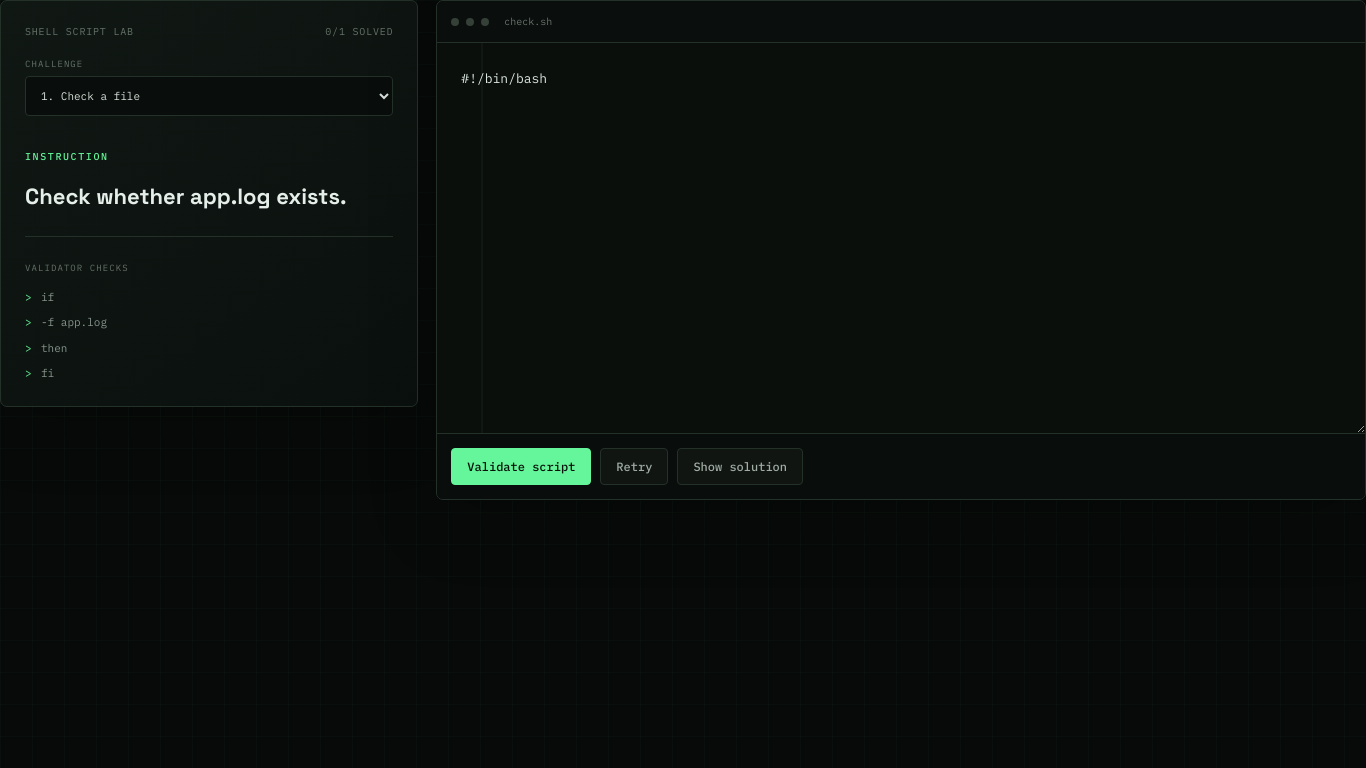
Test: FilePractice › opens a correction modal with a side-by-side comparison for an invalid answer
The image size is (1366, 768).
Replace the text in the text box named "Shell script answer" with "if [ -f app.log ]": (901, 238) x1=437 y1=43 x2=1365 y2=433
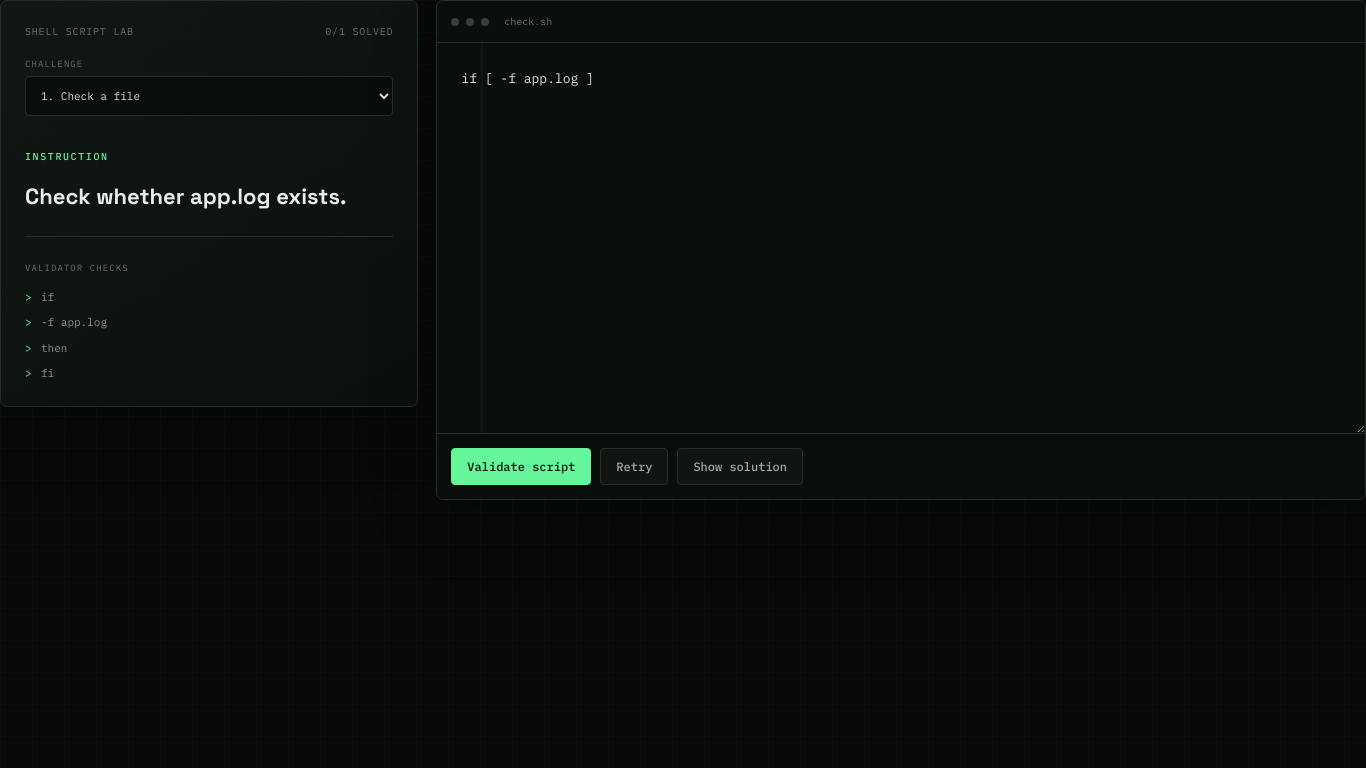
Click the button "Validate script": (521, 466) x1=451 y1=448 x2=591 y2=485
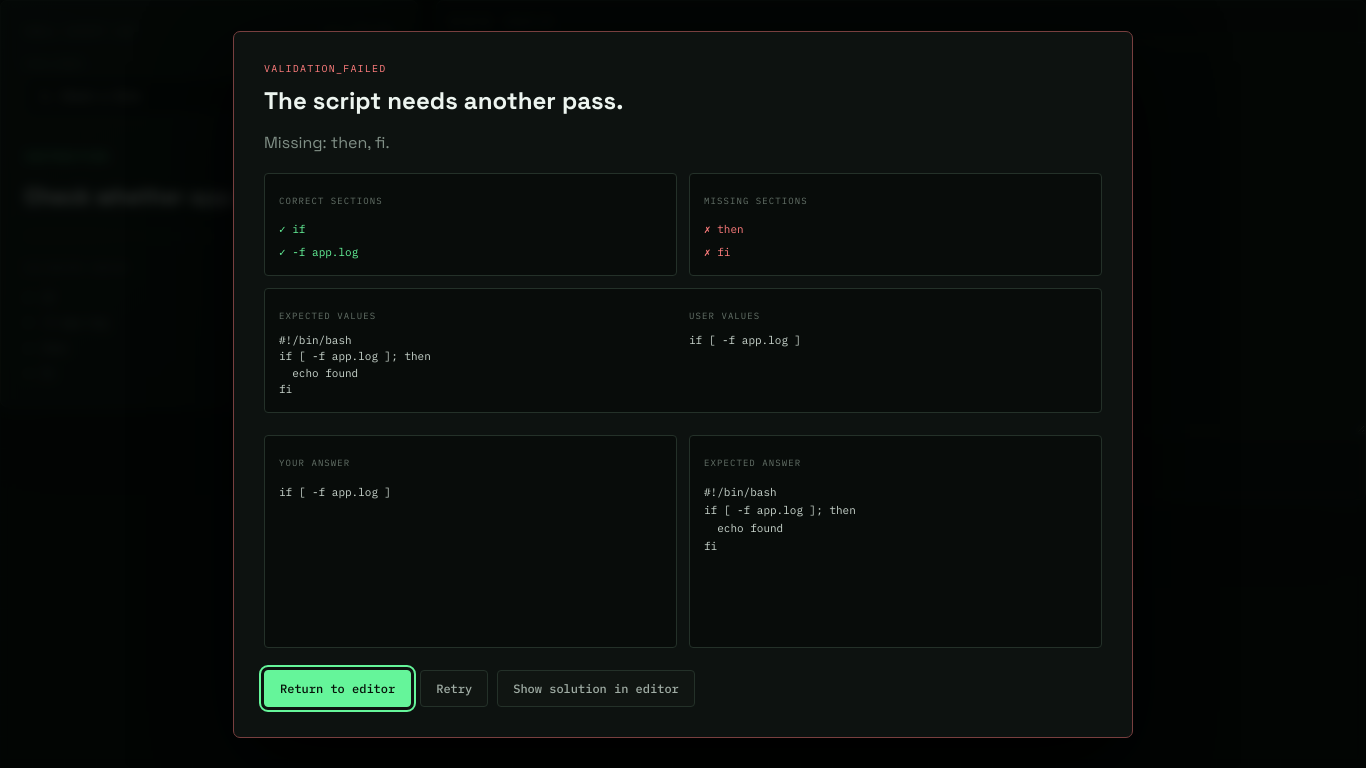
Expected: the heading "The script needs another pass." is shown, x1=264 y1=84 x2=623 y2=116
Expected: the text "Missing: then, fi." is shown, x1=264 y1=132 x2=390 y2=152
Expected: the text "your answer" is shown, x1=279 y1=456 x2=350 y2=468
